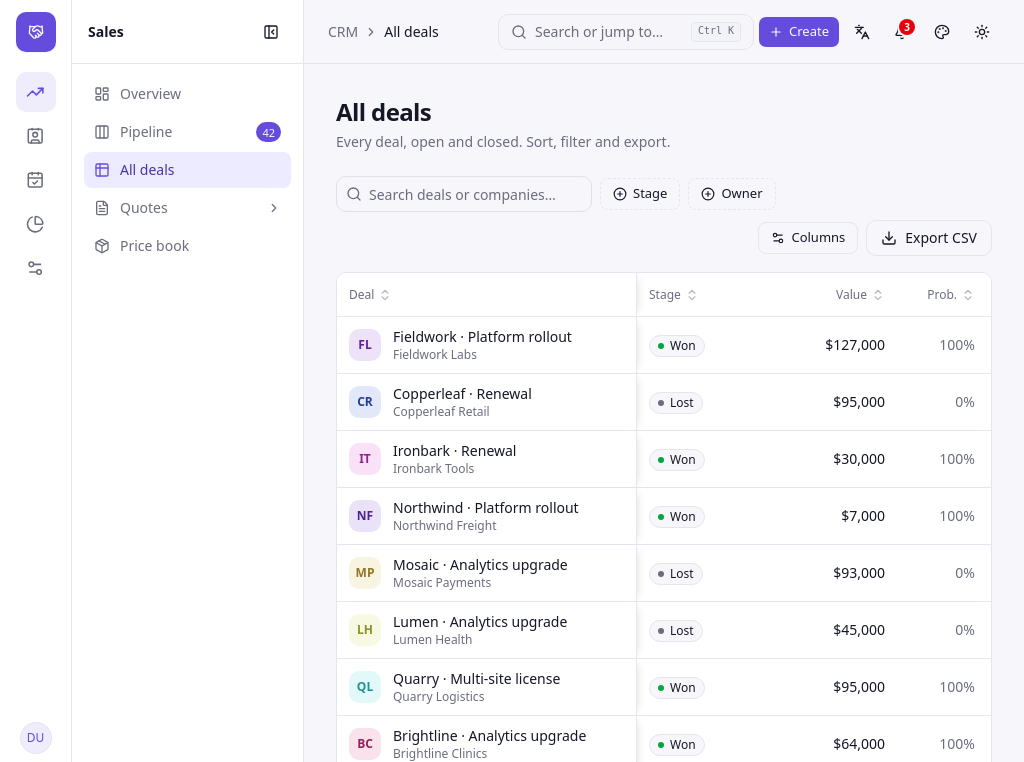
CRM workspace › lists deals in the table and opens a deal
Click the link "Fieldwork · Platform rollout": (482, 337) [393,327,572,347]
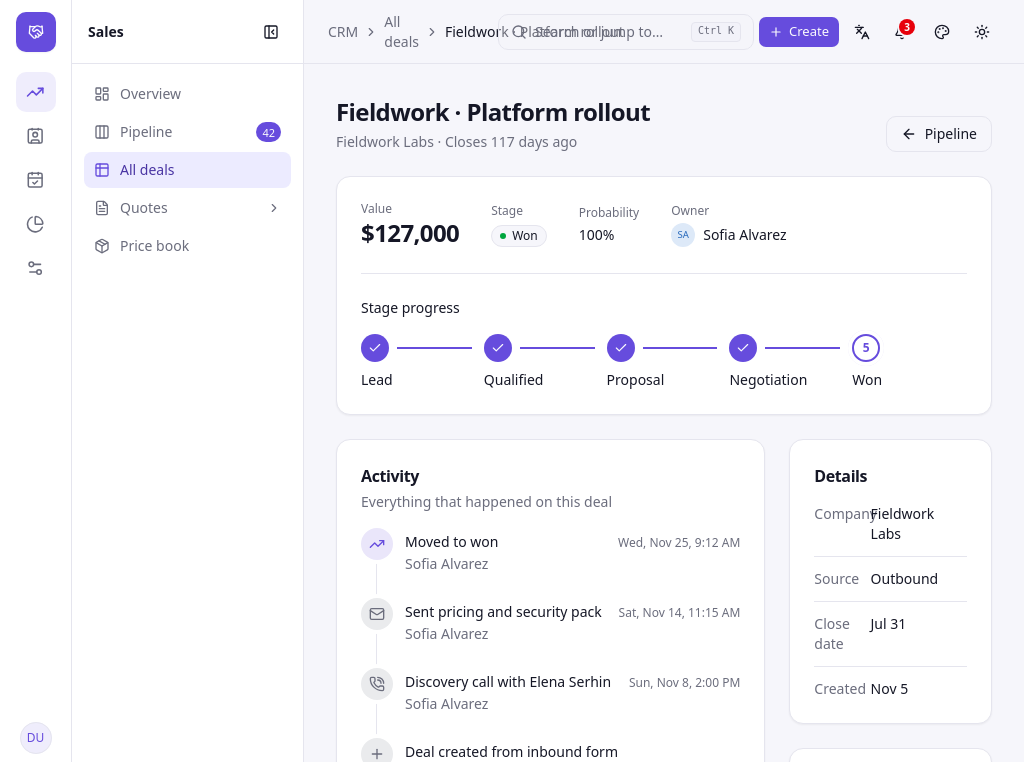
Result: the text "Stage progress" is shown at [361,298,460,317]
